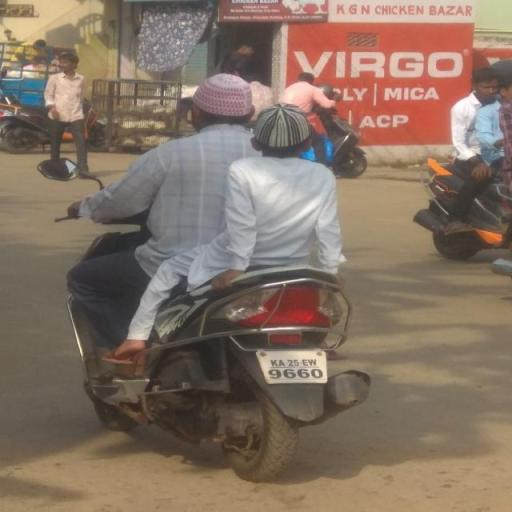bike: (34, 68, 377, 478)
numberplate: (262, 350, 327, 384)
withouthelmet: (194, 74, 254, 128), (258, 104, 307, 152)
